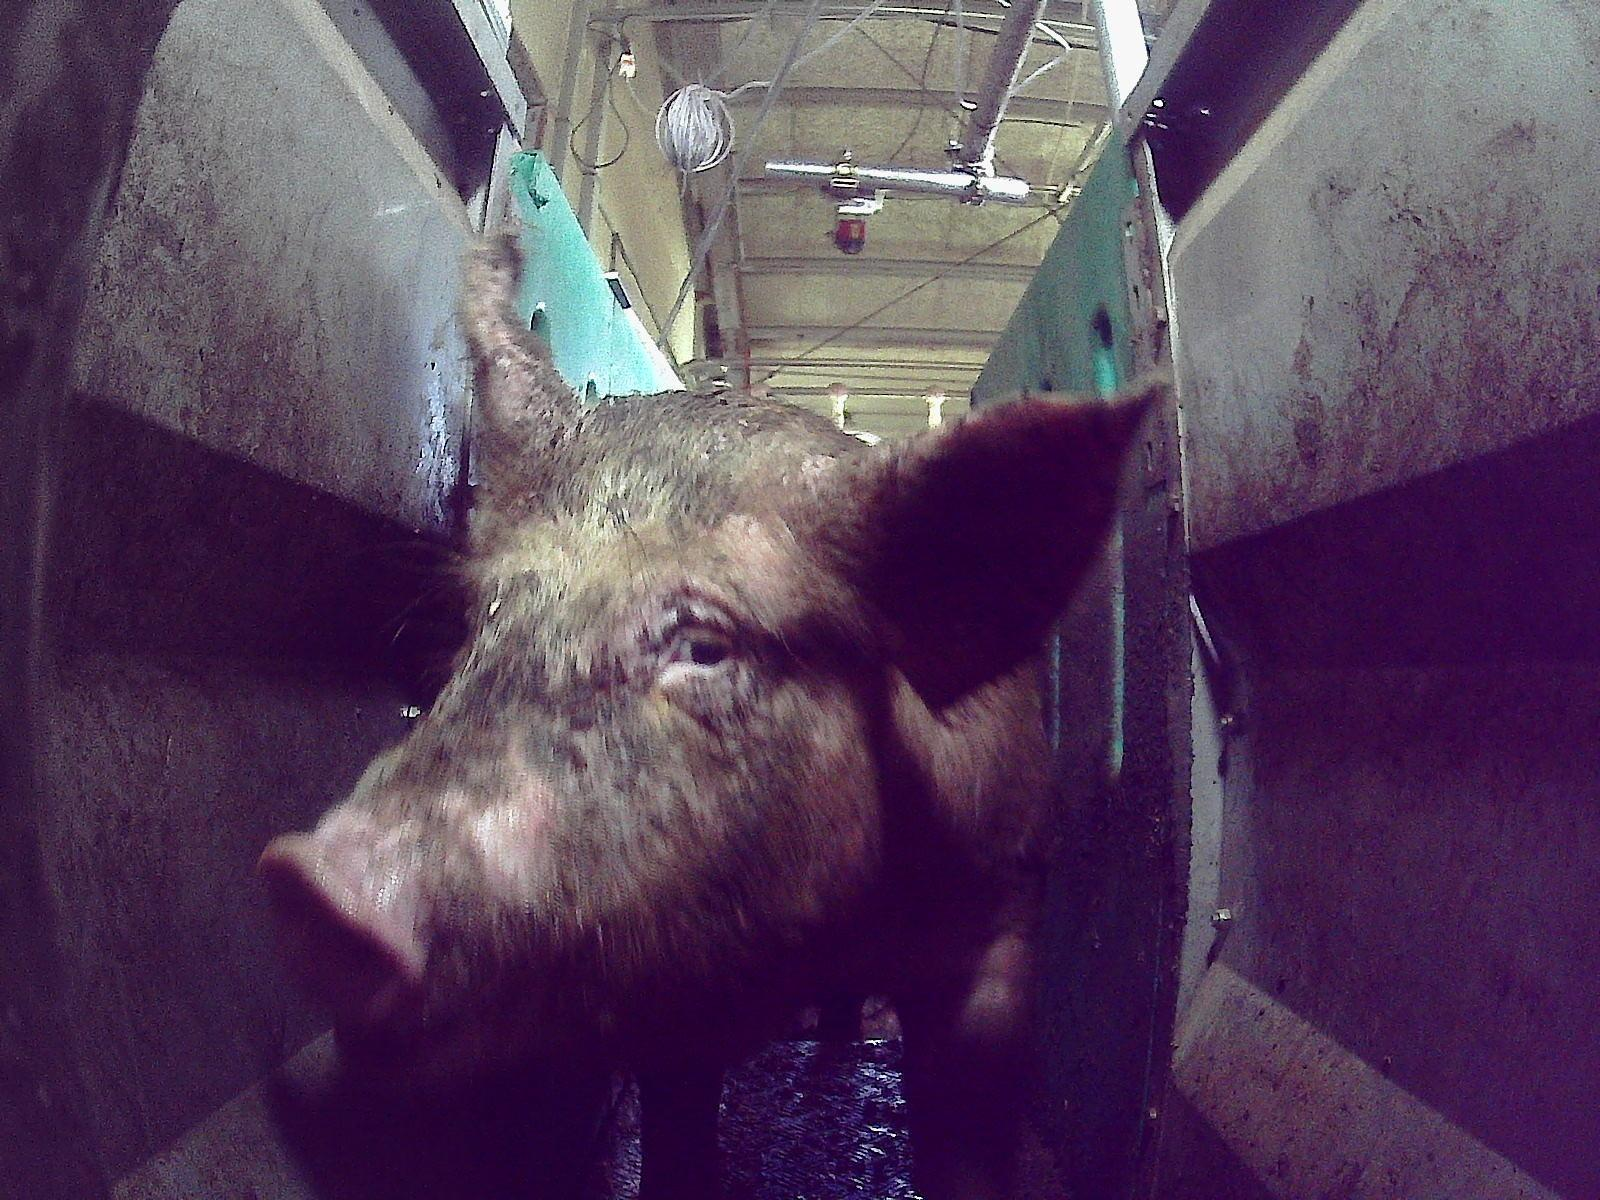Face: (258, 445, 894, 1074)
